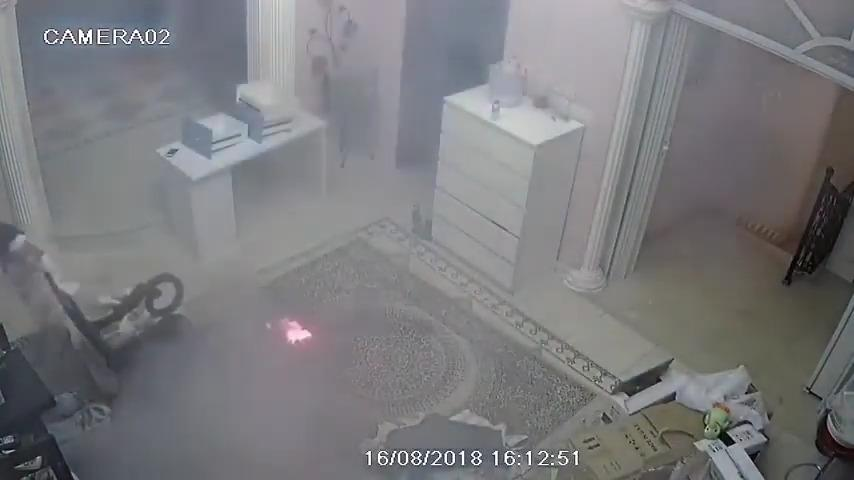fire: (266, 319, 312, 344)
